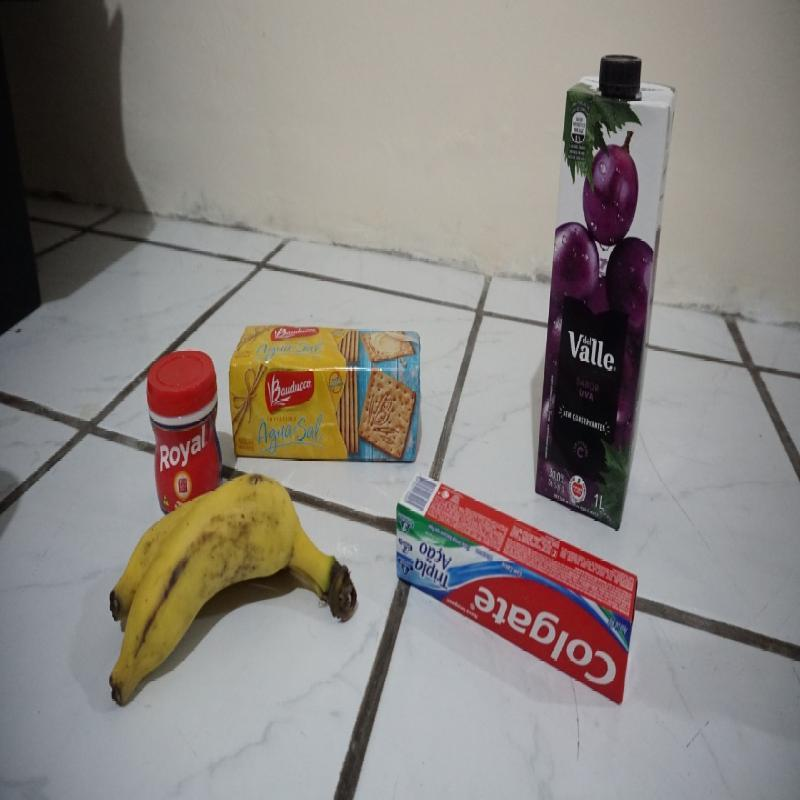Banana: (82, 480, 364, 684)
Cracker: (221, 323, 421, 464)
Toothpaste: (393, 476, 636, 706)
Yeast: (146, 350, 224, 491)
